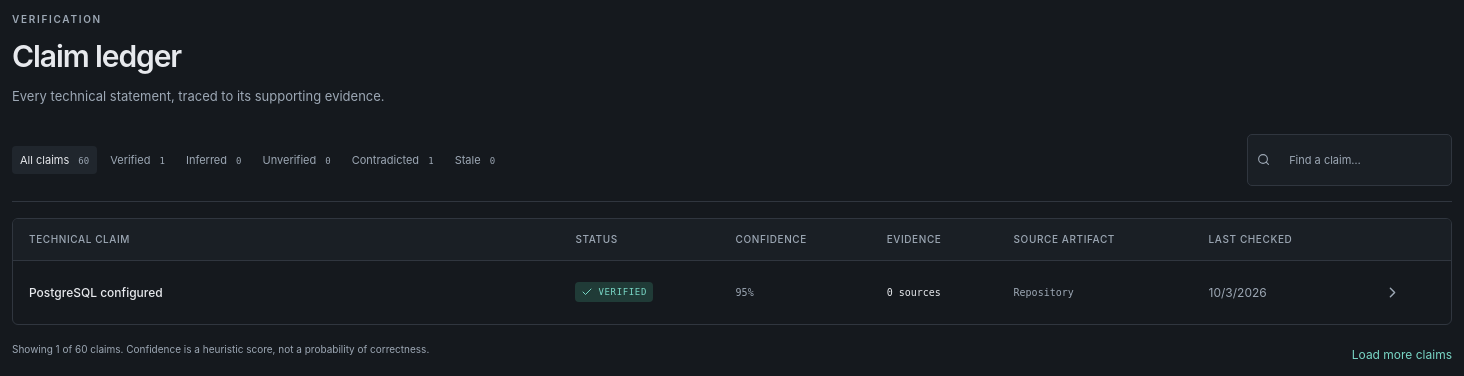
Test: Claim review › retrieves matching claims outside the initial page
What coordinates should you click on to do the following:
click the button "Contradicted 1"
I would click on:
 (393, 160)
Its box is [344,146,442,174].
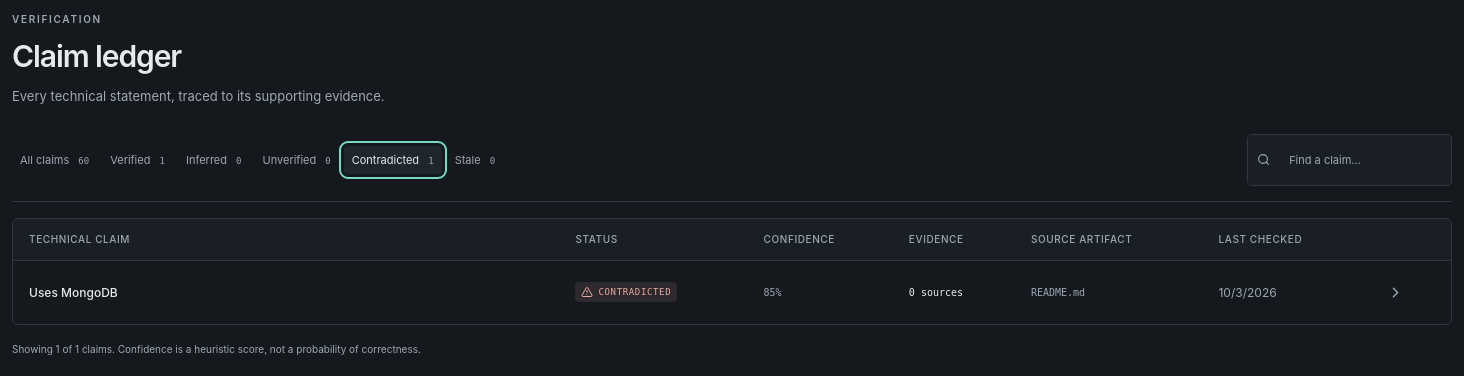
Result: the button "Uses MongoDB" is shown at [29,283,118,302]
What coordinates should you click on to do the following:
click the button "All claims 60"
I would click on:
 (55, 160)
Its box is [12,146,97,174].
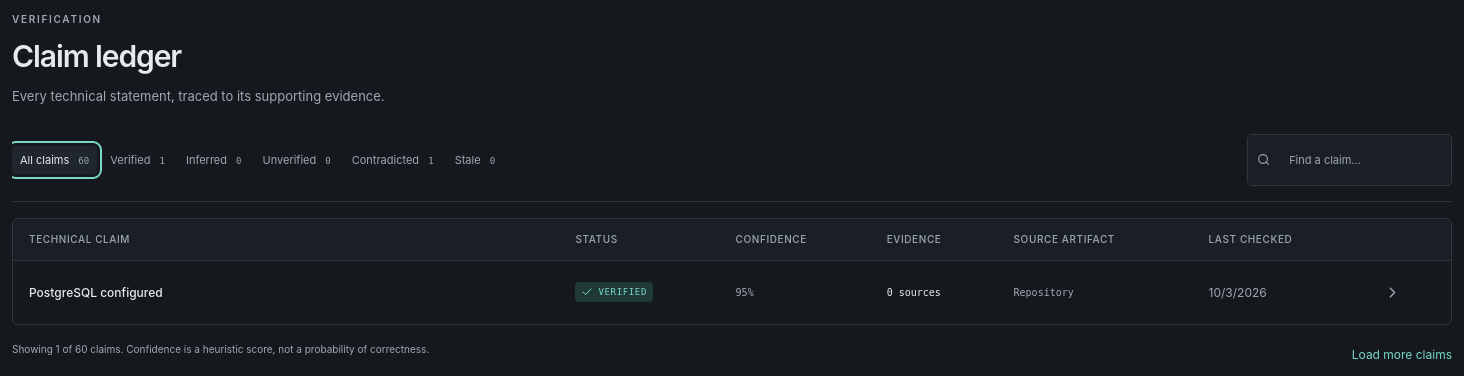
Result: the button "PostgreSQL configured" is shown at [29,283,163,302]
